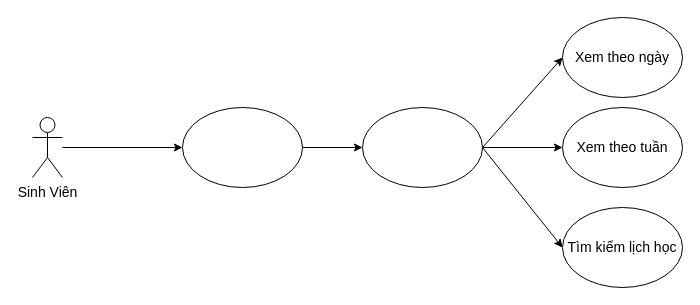
This 700x305 diagram has some shape labels left out. The shapes that lost their labels are listed below. From the top down, each one's centre as x and y in pixels, then its label:
At pixel 242 147: "Đăng nhập".
At pixel 422 147: "Xem lịch học".
